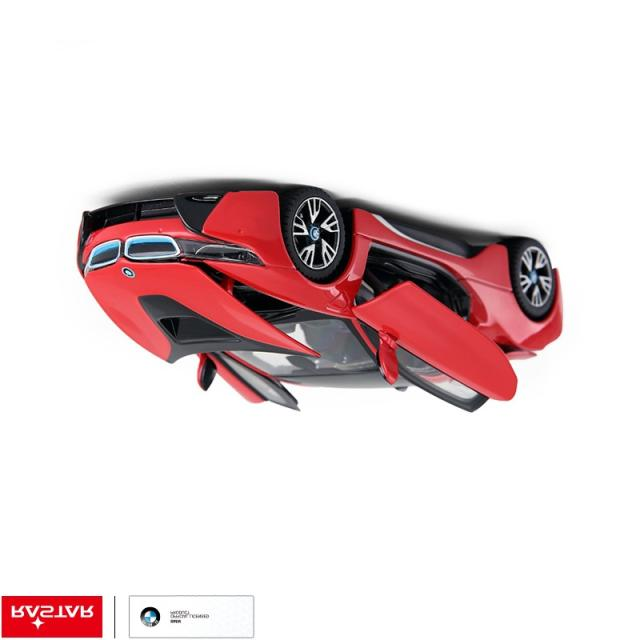Car: (78, 187, 562, 412)
